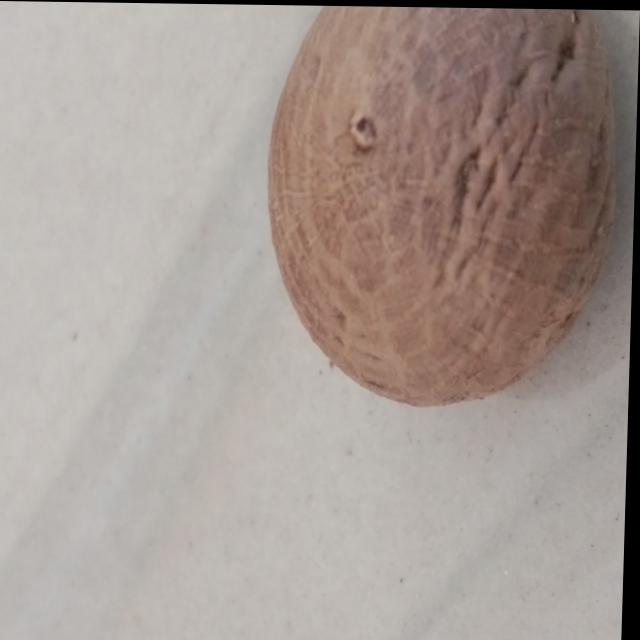phatora: (235, 3, 640, 419)
